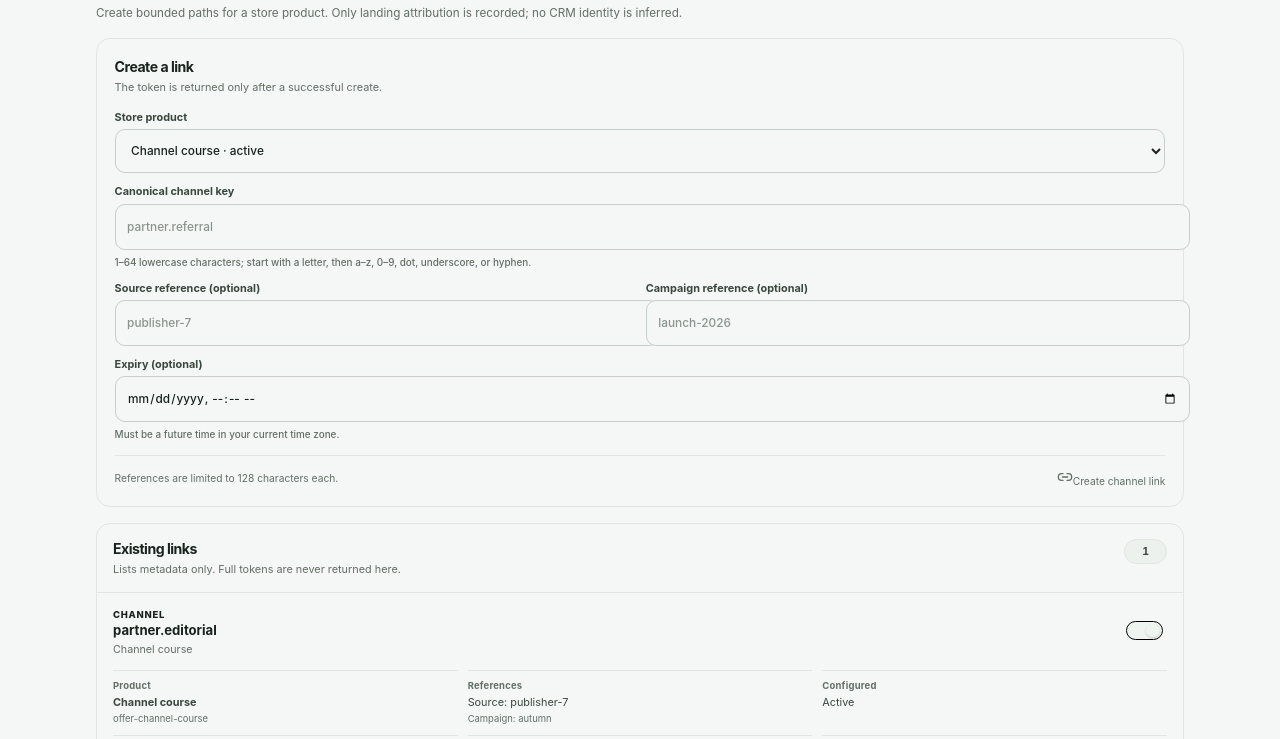
Scenario: StoreAcquisitionLinksPanel › blocks a stale switch after a version conflict until refreshed
Click the switch named "Disable link partner.editorial".
click(1145, 630)  # box [1122,608,1167,652]
(page scrolled)
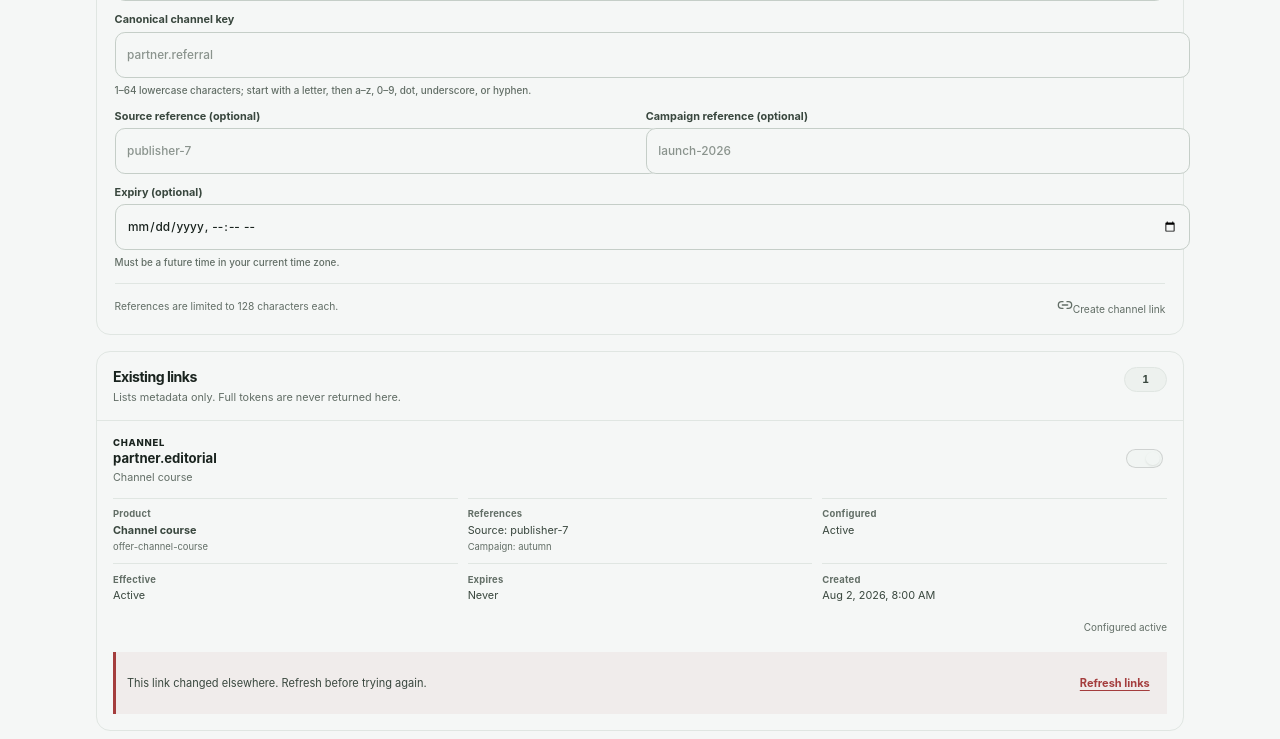
Expected: the text "This link changed elsewhere. Refresh before trying again." is shown, [127,676,427,690]
Expected: the switch named "Disable link partner.editorial" is disabled, [1122,436,1167,480]
Click the button "Refresh links".
click(1115, 683)  # box [1073,661,1156,705]
(page scrolled)
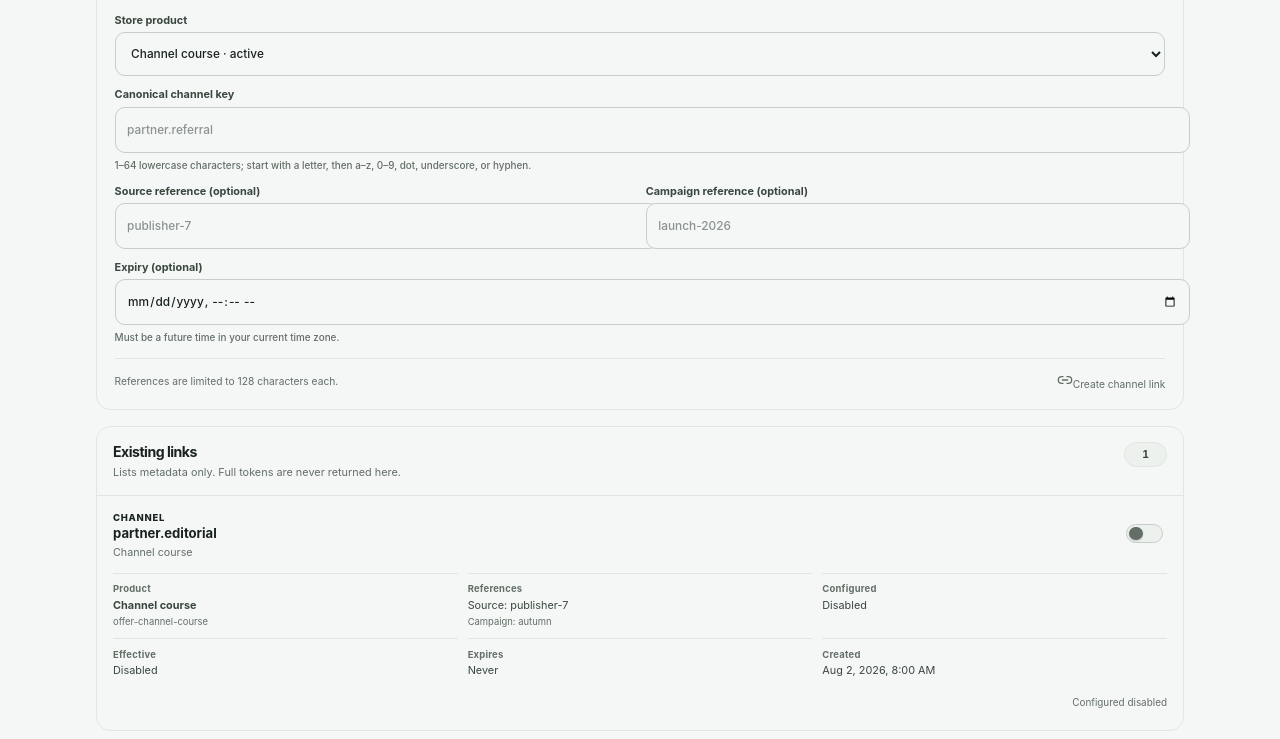
Expected: the switch named "Enable link partner.editorial" is enabled, [1122,512,1167,556]
Expected: the text "changed elsewhere" is gone
